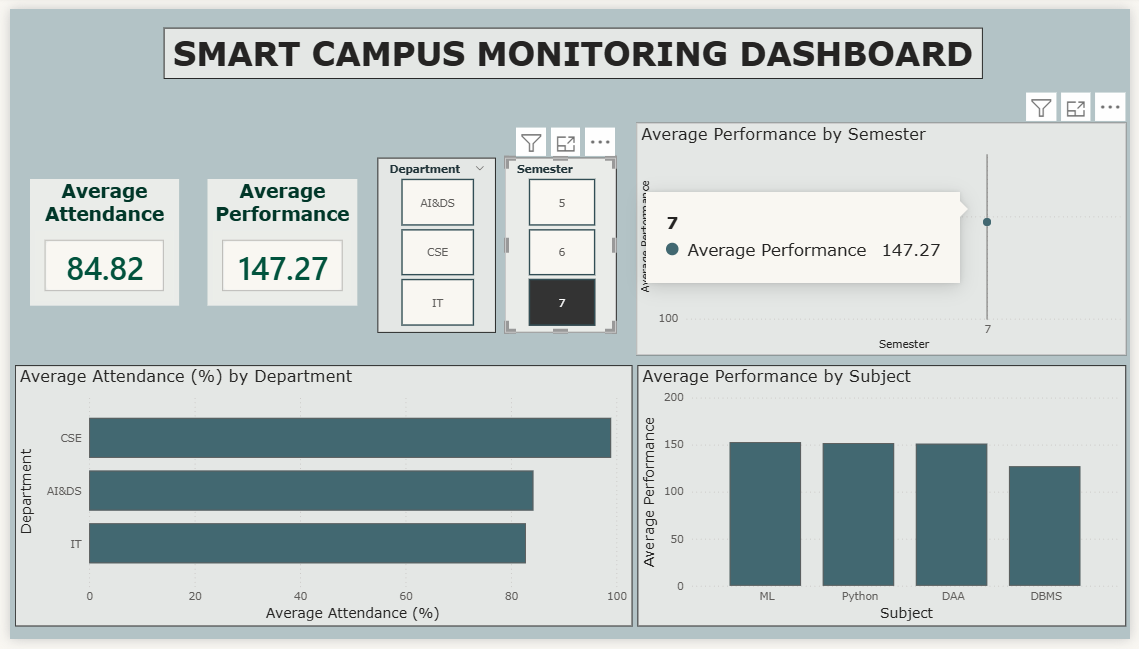

Layout of this report page (visuals, bound fields, positions):
{"tool":"powerbi","page":{"name":"Page 1","canvas":[1280,720],"ordinal":0},"visuals":[{"type":"cardVisual","title":"Average Attendance","fields":{"Data":["5 student_performance.Average Attendance (%)"]},"box":[23.2,194.3,170,145],"z":0},{"type":"clusteredBarChart","fields":{"Category":["5 student_performance.Department","5 student_performance.Subject","5 student_performance.Student_ID"],"Y":["5 student_performance.Average Attendance (%)"]},"box":[5.7,407.1,705.7,298.6],"z":1000},{"type":"clusteredColumnChart","fields":{"Category":["5 student_performance.Subject"],"Y":["5 student_performance.Average Performance"]},"box":[717.1,407.1,558.6,298.6],"z":2000},{"type":"lineChart","fields":{"Category":["5 student_performance.Semester"],"Y":["5 student_performance.Average Performance"]},"box":[715.7,130.6,560,265.7],"z":3000},{"type":"slicer","fields":{"Values":["5 student_performance.Department"]},"box":[420,169.4,135,200],"z":4000},{"type":"textbox","box":[175.7,21.4,935.7,58.6],"z":5000},{"type":"cardVisual","title":"Average Performance","fields":{"Data":["5 student_performance.Average Performance"]},"box":[225.7,194.3,171.2,145],"z":6000},{"type":"slicer","fields":{"Values":["5 student_performance.Semester"]},"box":[565.7,169.6,127.8,200],"z":7000}]}

Visuals, with their boxes in screenshot pixels (x1, y1, x2, y2), scaled from the page's 1280x720 canvas onto the 1139x649 screenshot:
"Average Attendance" cardVisual: (left=21, top=175, right=172, bottom=306)
clusteredBarChart - 5 student_performance.Department x 5 student_performance.Subject: (left=5, top=367, right=633, bottom=636)
clusteredColumnChart - 5 student_performance.Subject x 5 student_performance.Average Performance: (left=638, top=367, right=1135, bottom=636)
lineChart - 5 student_performance.Semester x 5 student_performance.Average Performance: (left=637, top=118, right=1135, bottom=357)
slicer - 5 student_performance.Department: (left=374, top=153, right=494, bottom=333)
textbox: (left=156, top=19, right=989, bottom=72)
"Average Performance" cardVisual: (left=201, top=175, right=353, bottom=306)
slicer - 5 student_performance.Semester: (left=503, top=153, right=617, bottom=333)
